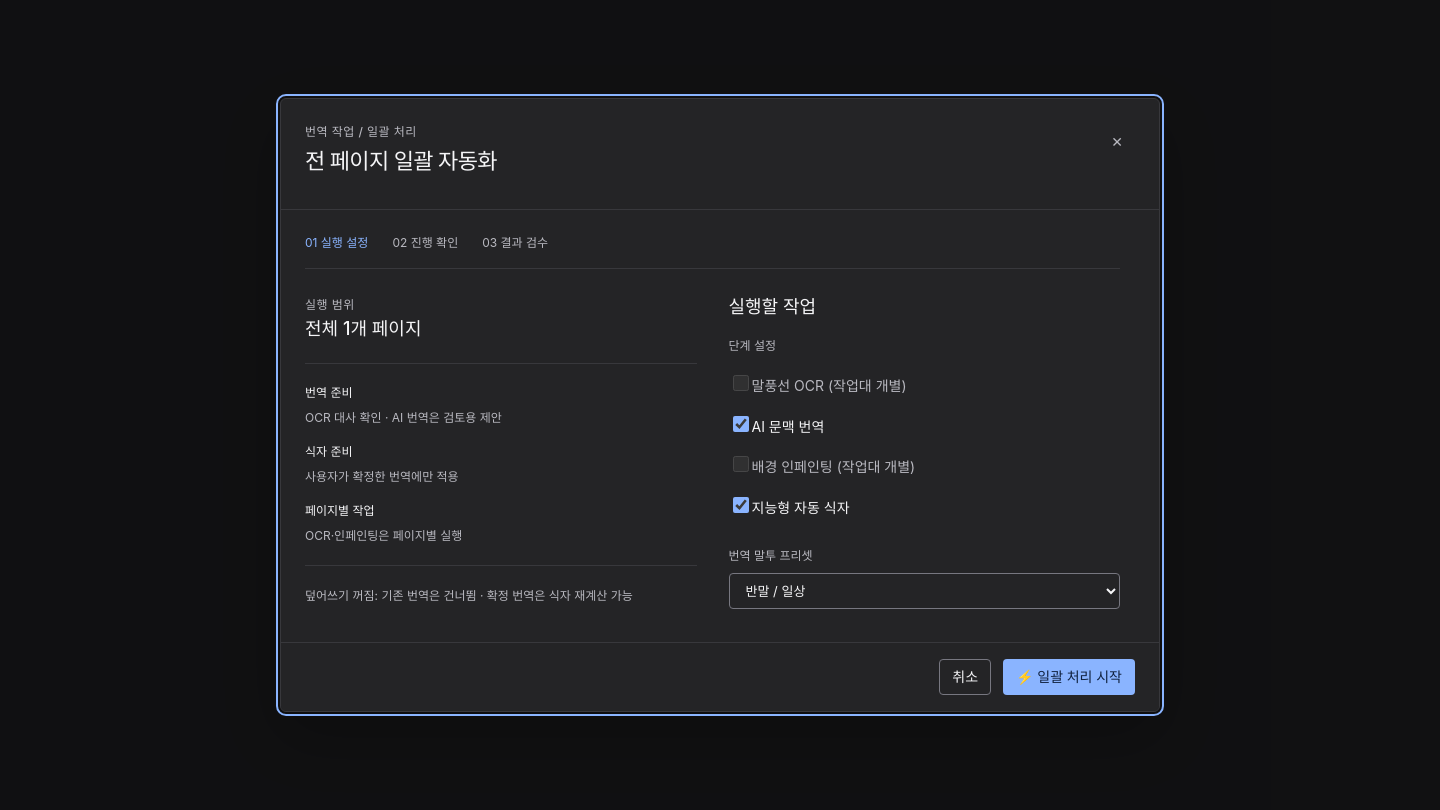
Test: BatchAutomationModal › awaits final adoption (ignored) and ignores progress after the run response
The width and height of the screenshot is (1440, 810).
Click the button "⚡ 일괄 처리 시작".
click(1069, 677)  # box [1003,659,1135,695]
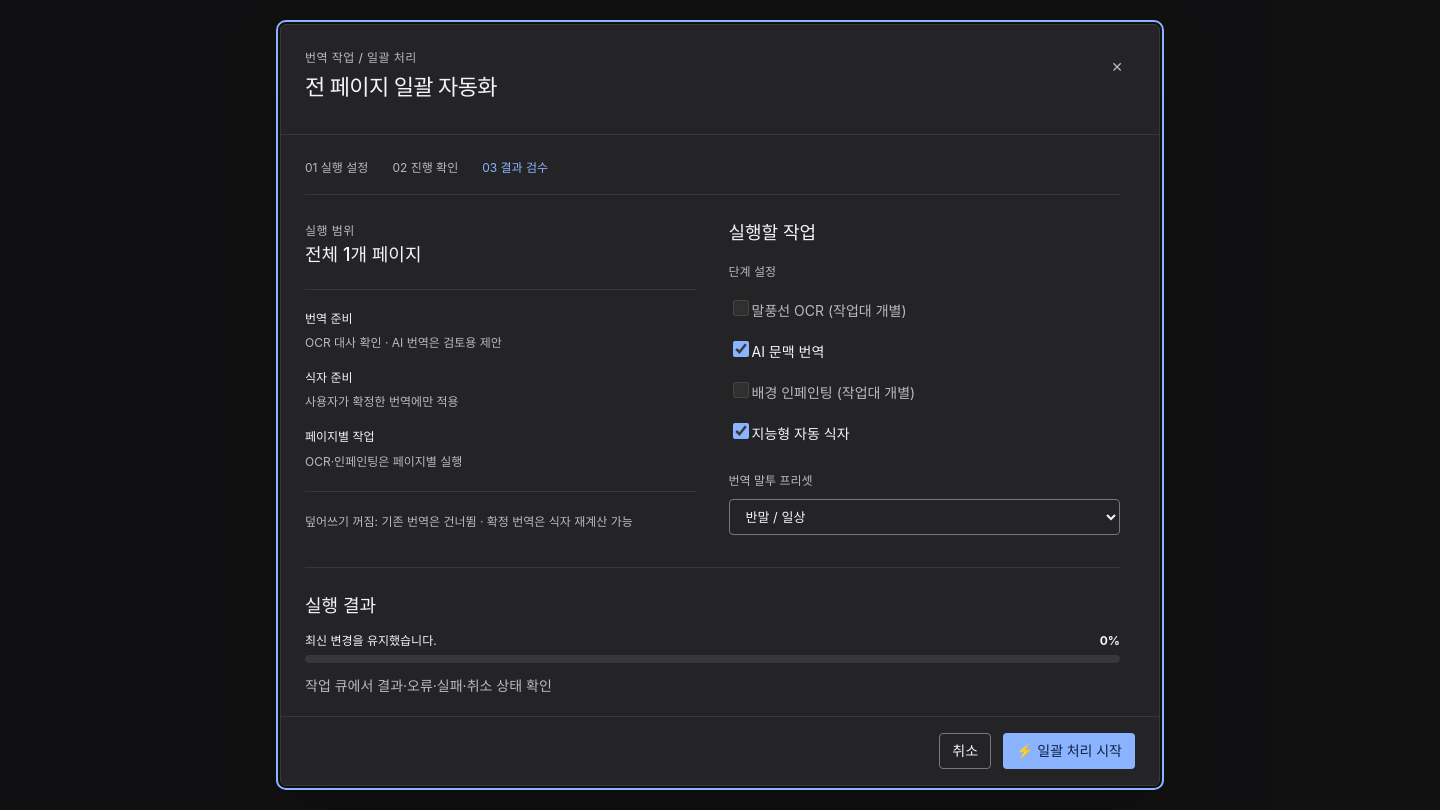
expect the text "최신 변경을 유지했습니다." is shown: met, box [305,632,437,651]
